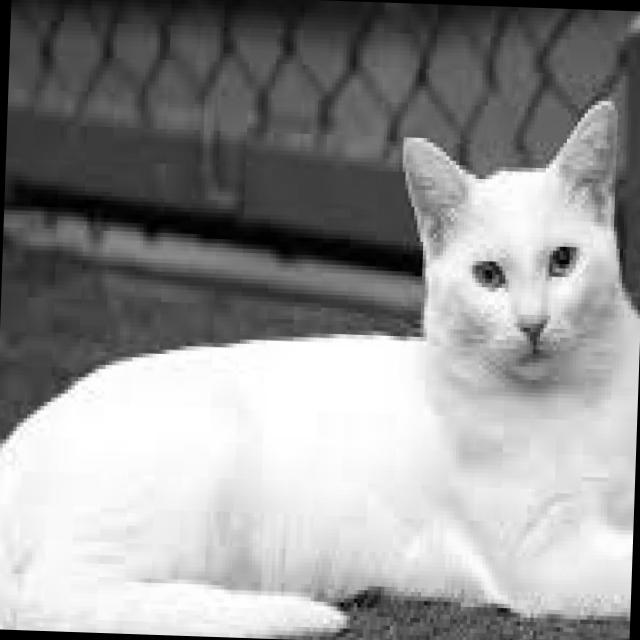van: (386, 93, 640, 391)
